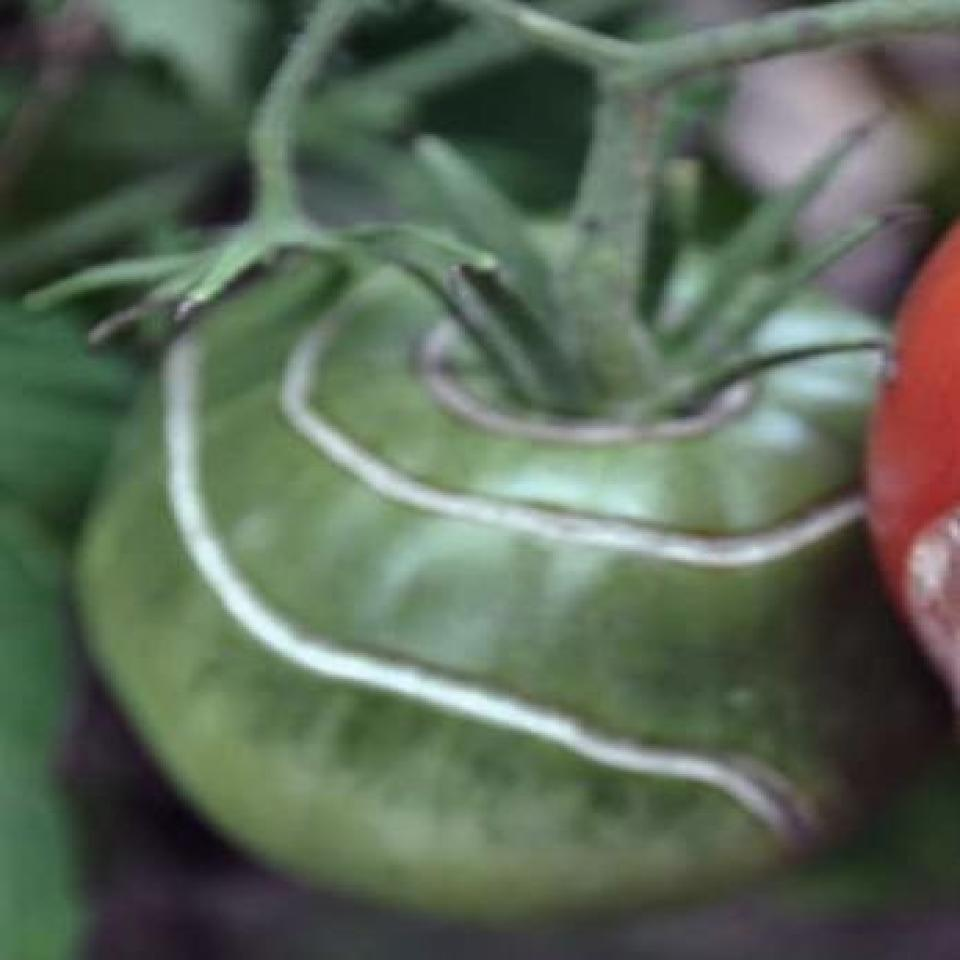Cracking: (126, 274, 790, 862), (403, 268, 781, 441), (850, 214, 958, 644)
